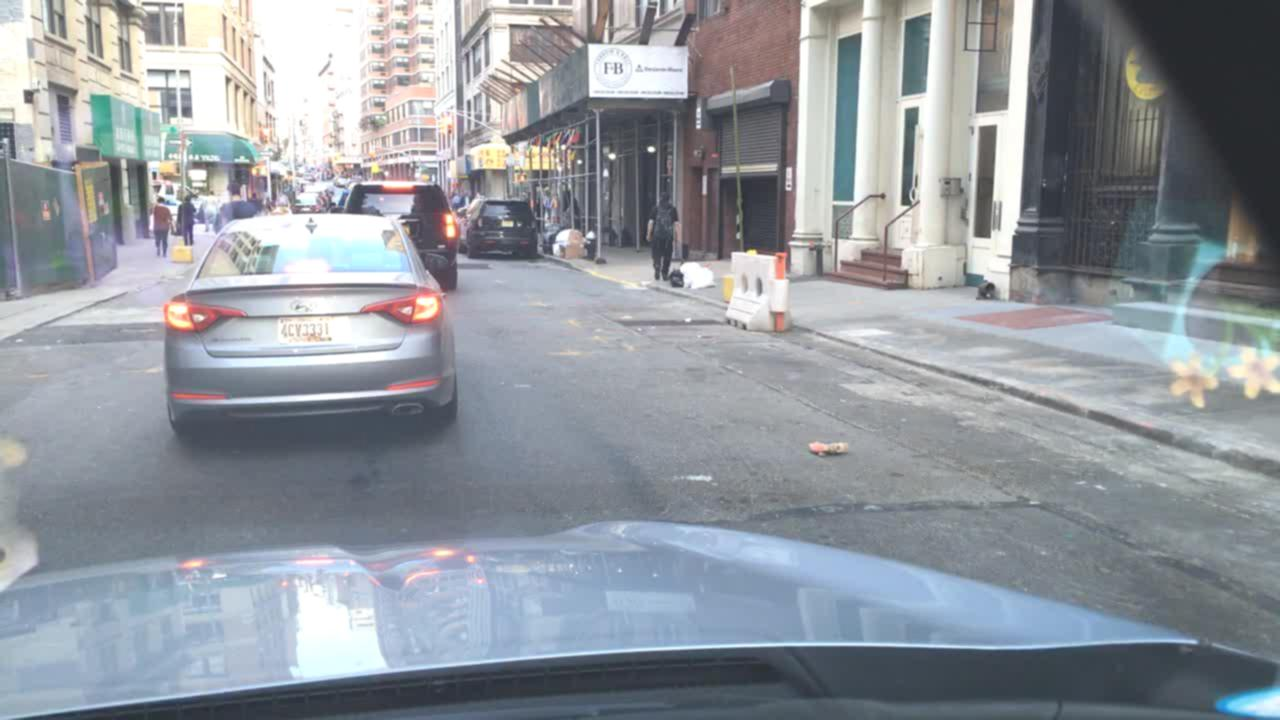Hyundai: (287, 292, 321, 316)
